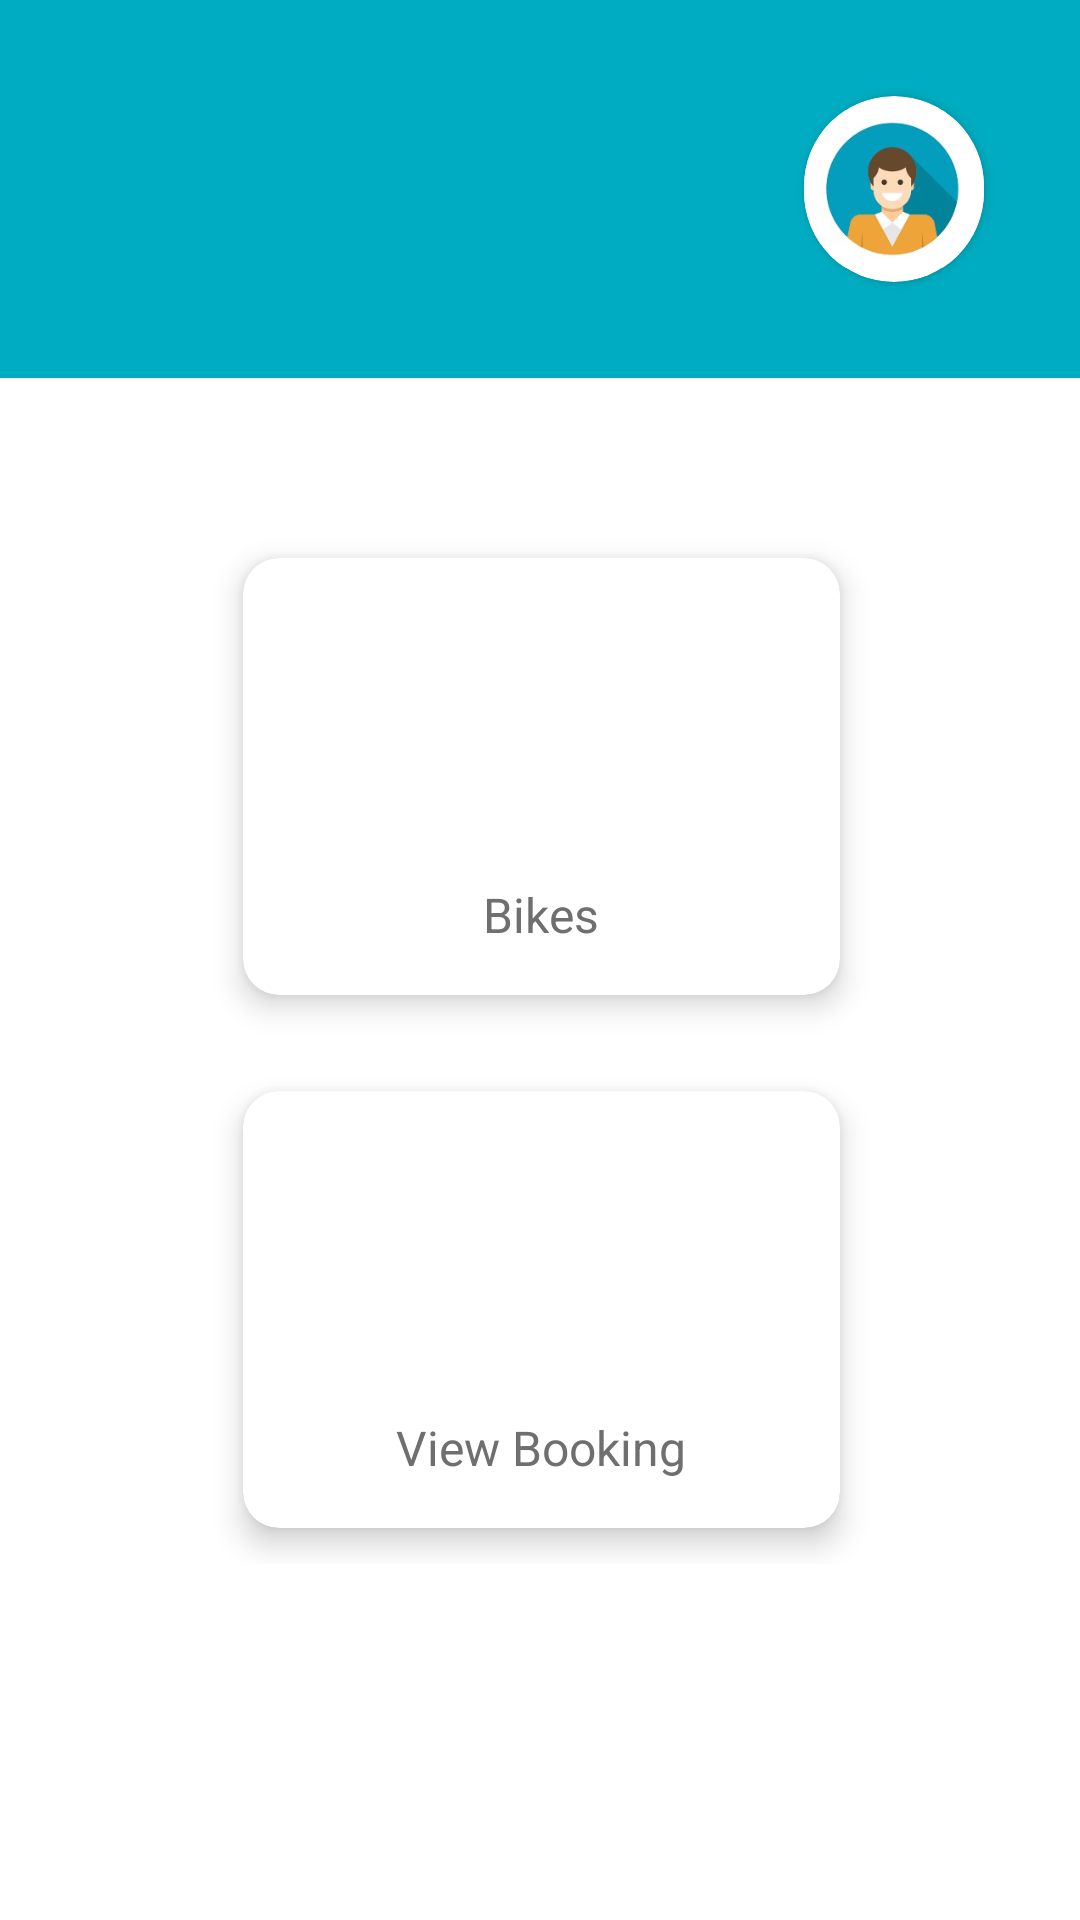

Point at icon controls on the screen. Image size 1080px x 1920px, points as (x=x, y=y).
user: (x=894, y=189)
